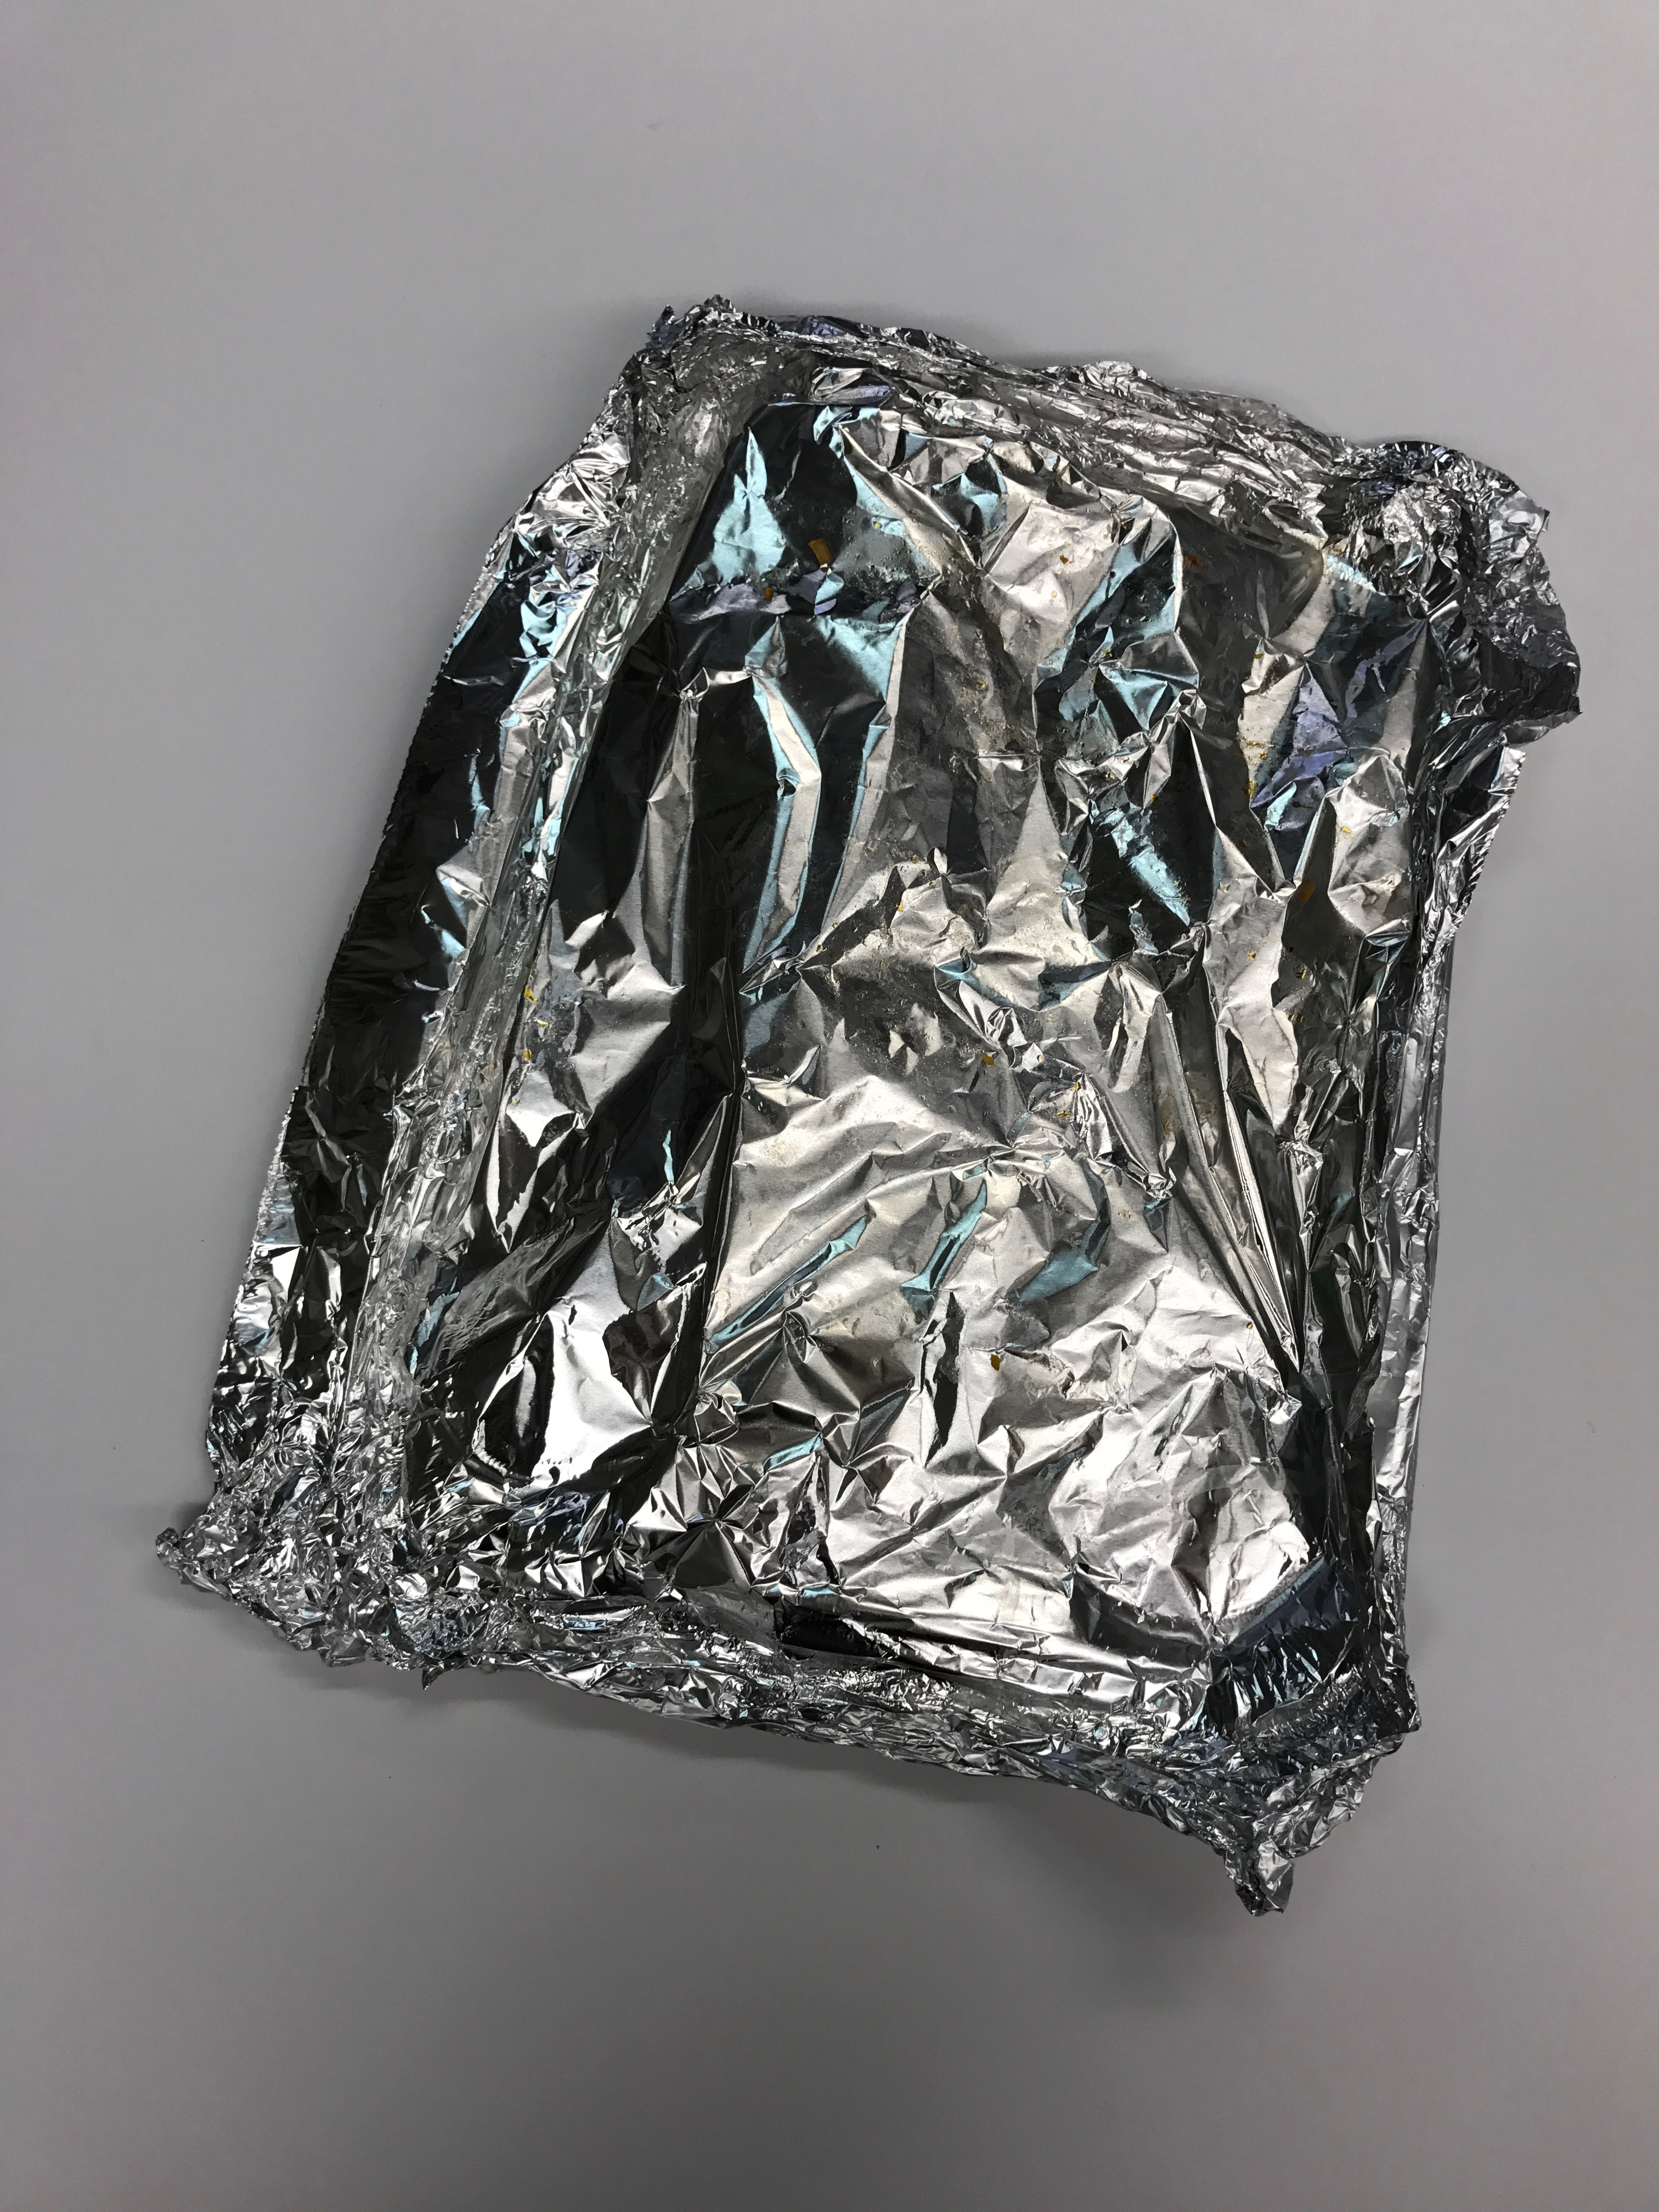metal: (125, 200, 1626, 1979)
